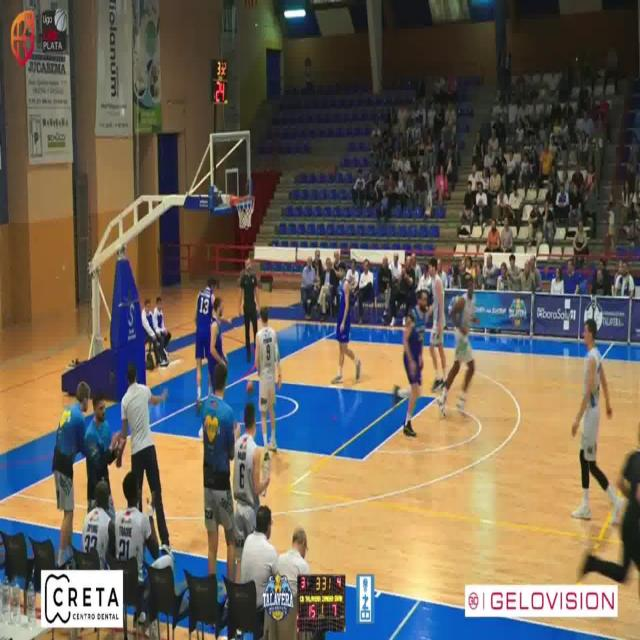ball: (246, 379, 254, 394)
basket: (229, 193, 254, 228)
bench person: (121, 361, 169, 546), (203, 360, 237, 580), (52, 381, 89, 567), (233, 402, 270, 581), (84, 394, 125, 512)
player: (573, 318, 624, 525), (438, 278, 476, 417), (253, 306, 281, 451), (404, 289, 430, 436), (331, 261, 362, 383), (195, 276, 217, 412), (430, 256, 447, 391), (207, 296, 227, 390)
referee: (586, 448, 640, 583), (239, 255, 259, 362)
